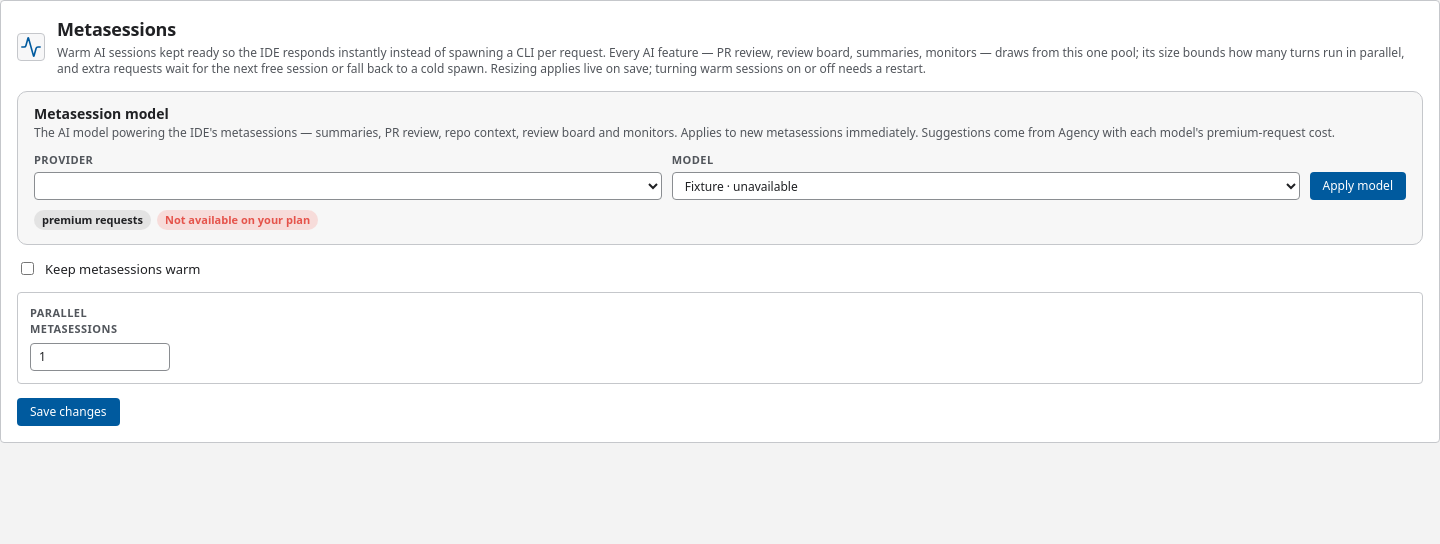
reports a failed pool-settings restart (false) without claiming it applied
This screenshot has width=1440, height=544.
Click the checkbox labelled "Keep metasessions warm" at (28, 268), box [21, 262, 34, 275]
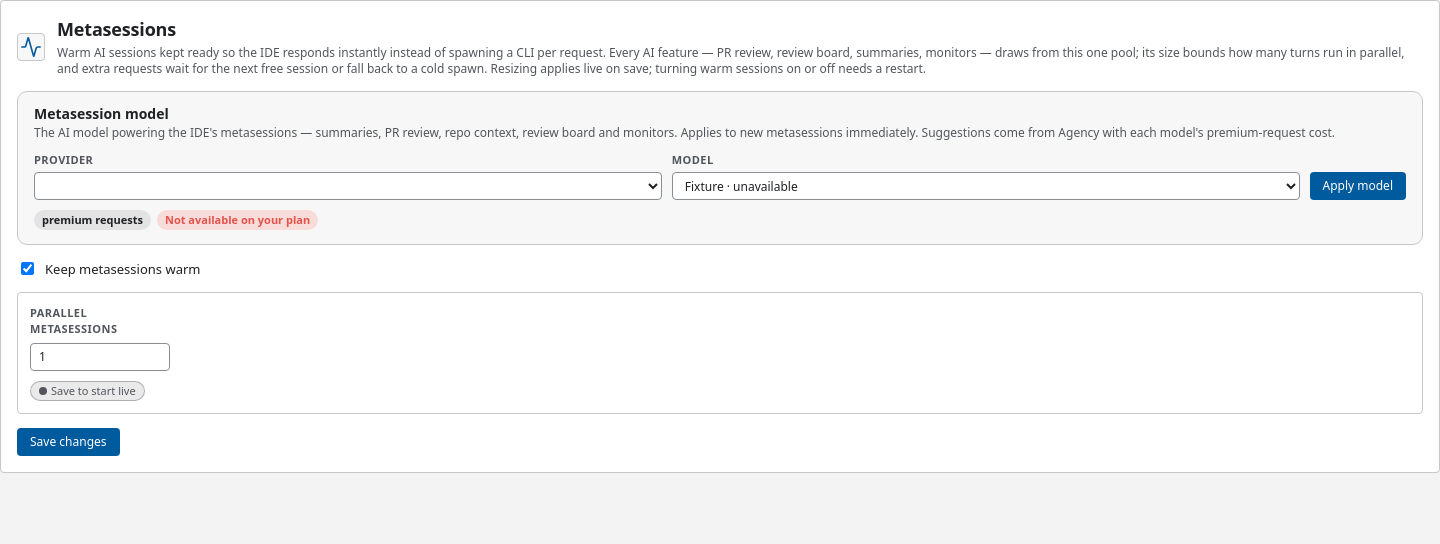
Click the button "Save changes" at (68, 442), box [17, 428, 120, 456]
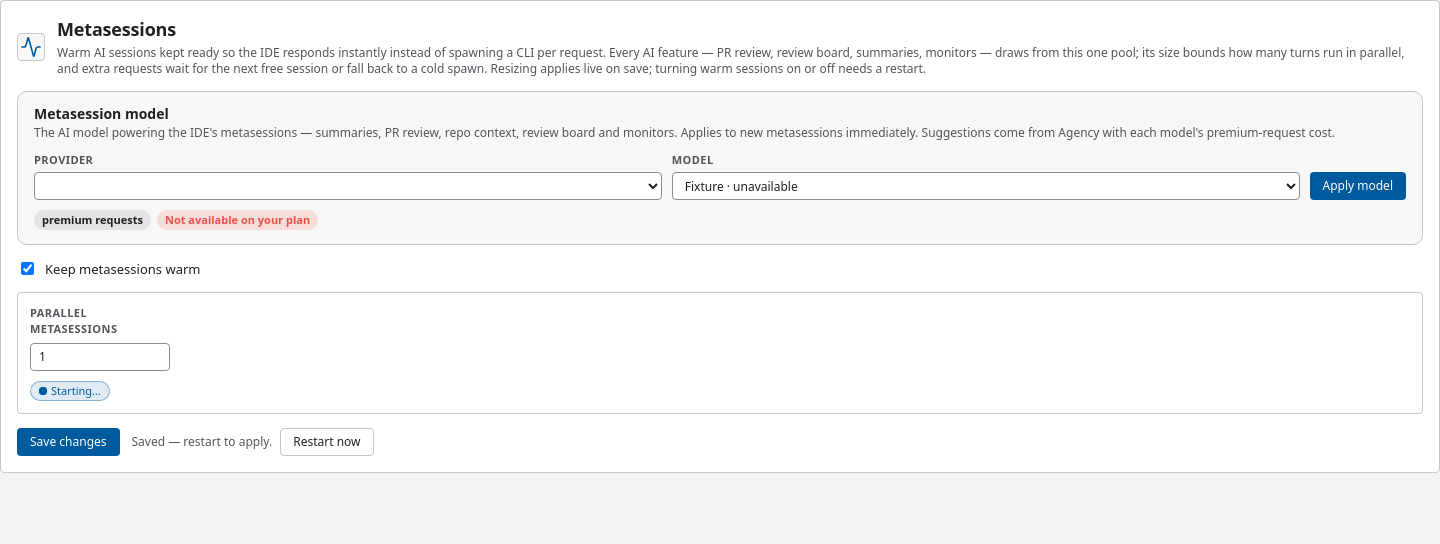
Click the button "Restart now" at (327, 442), box [280, 428, 374, 456]
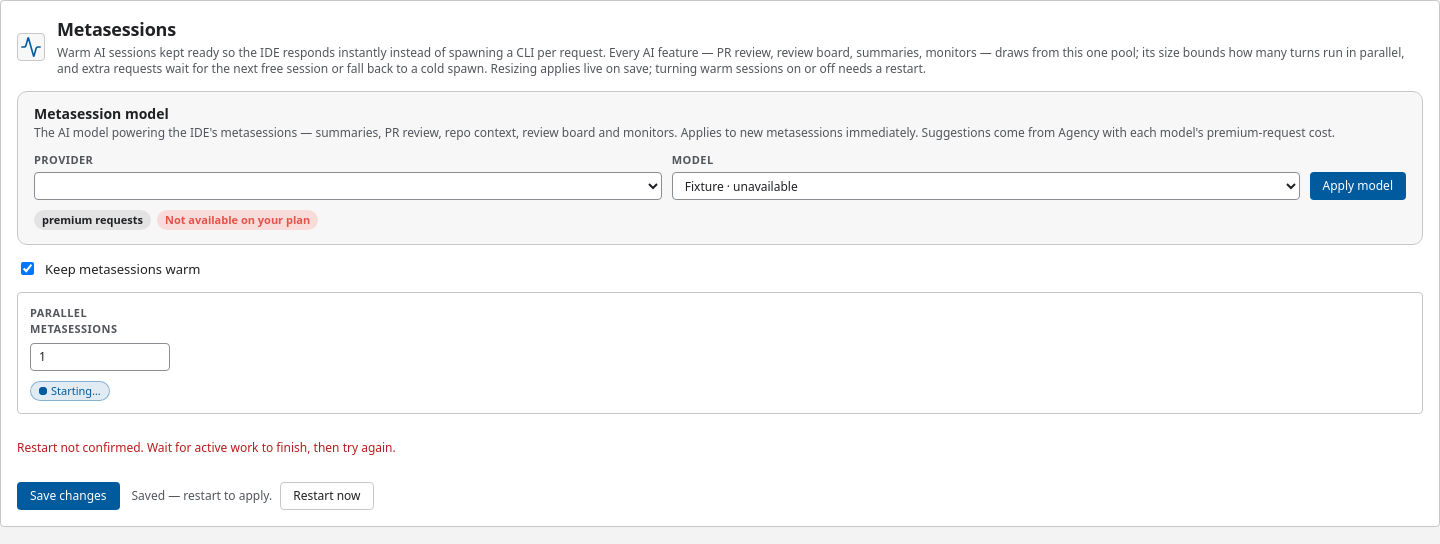
Expected: the button "Restart now" is enabled, [280, 482, 374, 510]
Expected: the text "Restart not confirmed. Wait for active work to finish, then try again." is shown, [17, 439, 396, 456]
